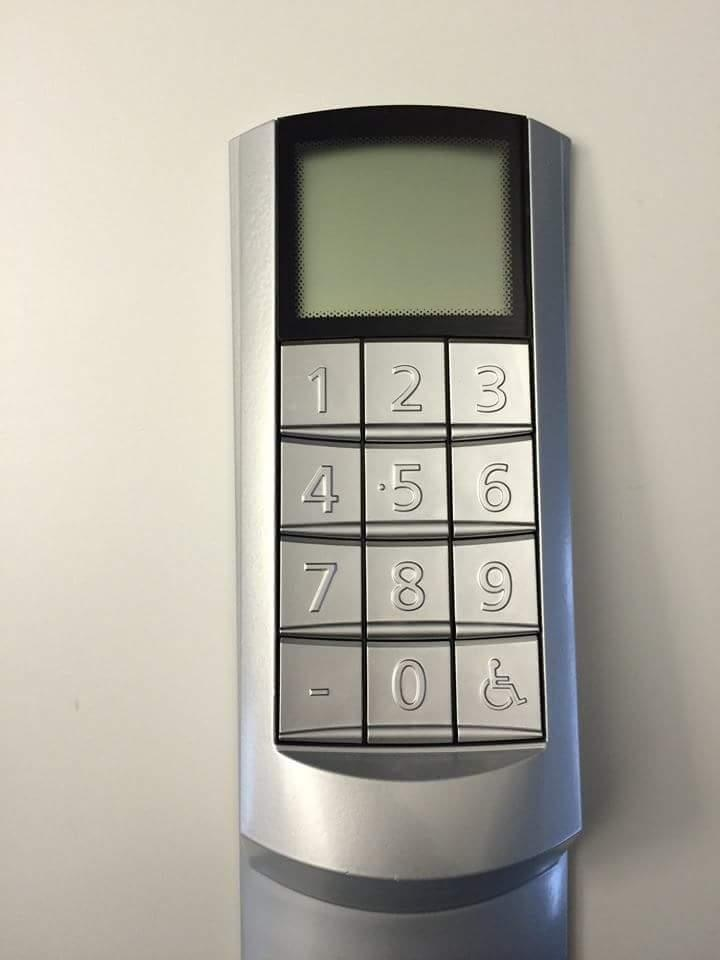-: (275, 632, 363, 736)
0: (363, 632, 454, 737)
1: (275, 337, 364, 430)
2: (360, 336, 449, 429)
3: (445, 335, 534, 428)
4: (275, 431, 363, 528)
5: (362, 431, 450, 528)
6: (448, 430, 536, 527)
7: (275, 531, 363, 628)
8: (364, 531, 452, 628)
9: (450, 531, 538, 628)
CH: (452, 632, 543, 737)
led: (268, 100, 540, 347)
